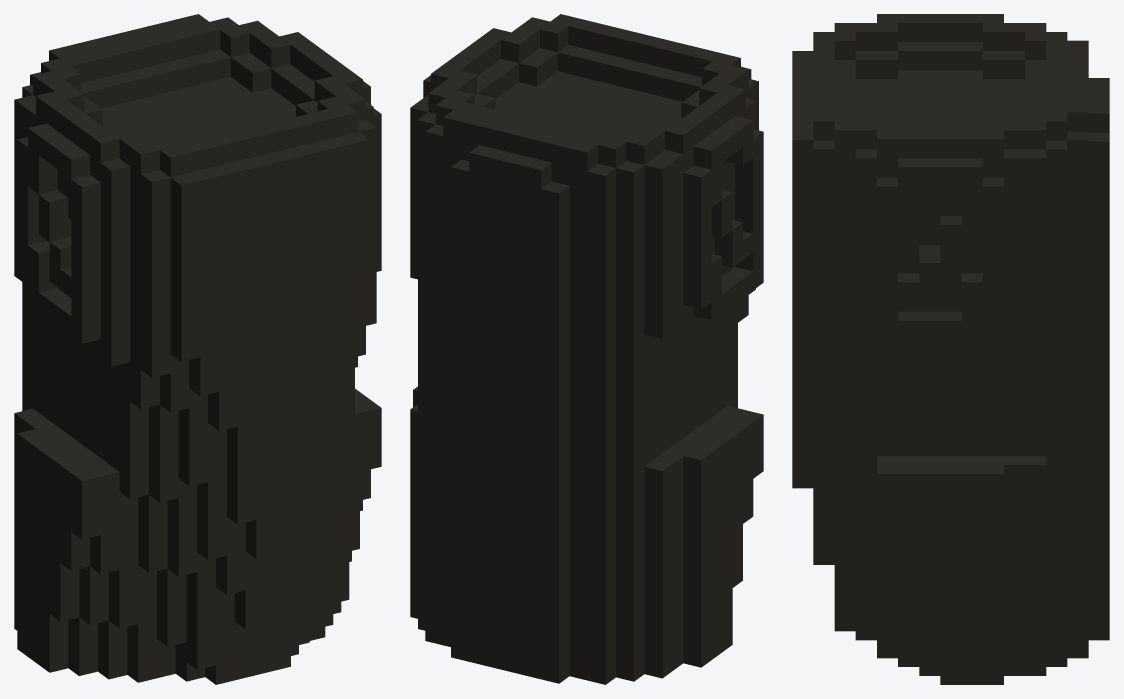
File: IdolFaceless.obj
3 views of the same model, side by side, from view 1: azimuth 30°, elevation 25°; view 2: azimuth 150°, elevation 25°; view 3: azimuth 270°, elevation 25° (orthographic). The views are drawn at different scales.
Parts seen in each view (by area): view 1: IdolFaceless; view 2: IdolFaceless; view 3: IdolFaceless.
Part boxes in pixels (<box>): IdolFaceless: <box>14,14,381,684</box>; IdolFaceless: <box>410,14,763,684</box>; IdolFaceless: <box>792,14,1109,684</box>.
Size of the model in its own units: 16 by 28 by 15.
1 material, 1 textured.
